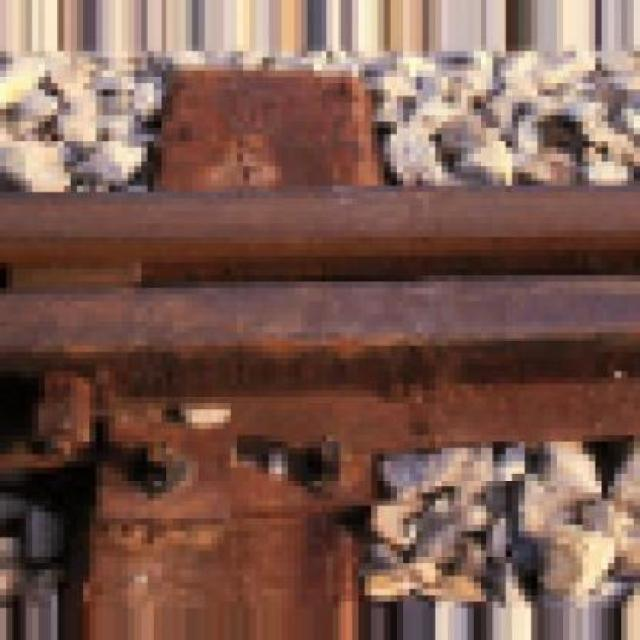defective: (4, 27, 640, 520)
